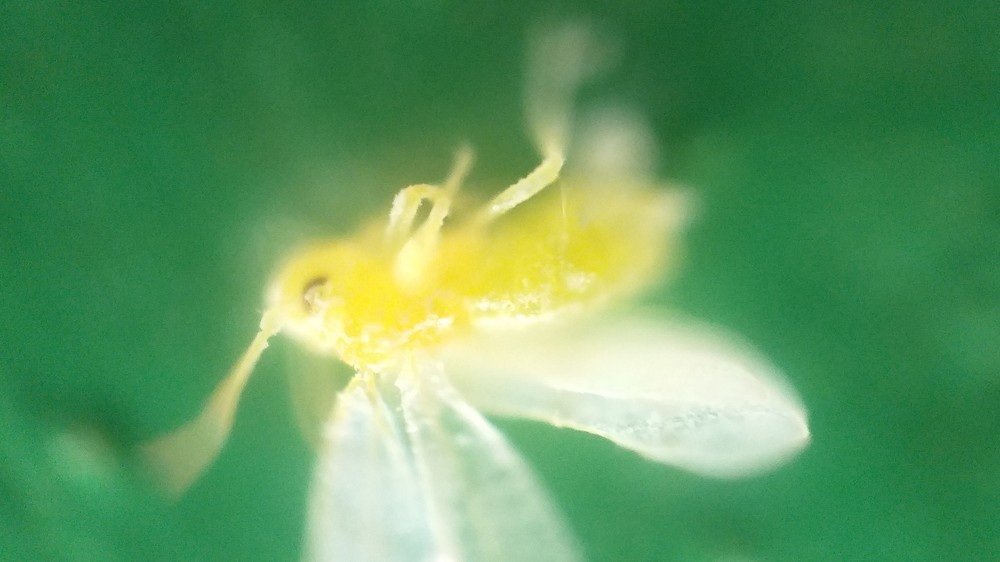Mosca Blanca: (148, 46, 828, 562)
